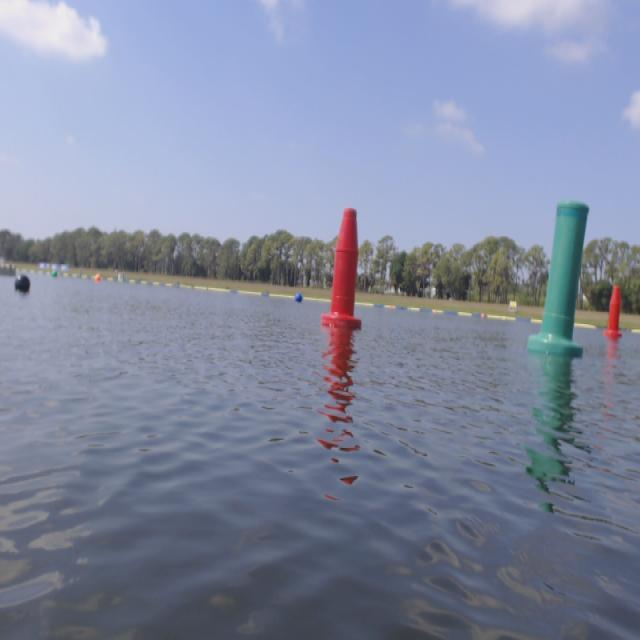Black_Buoy: (9, 270, 36, 305)
Green_Buoy: (552, 202, 580, 353)
Red_Buoy: (339, 205, 355, 330), (606, 282, 622, 346)
